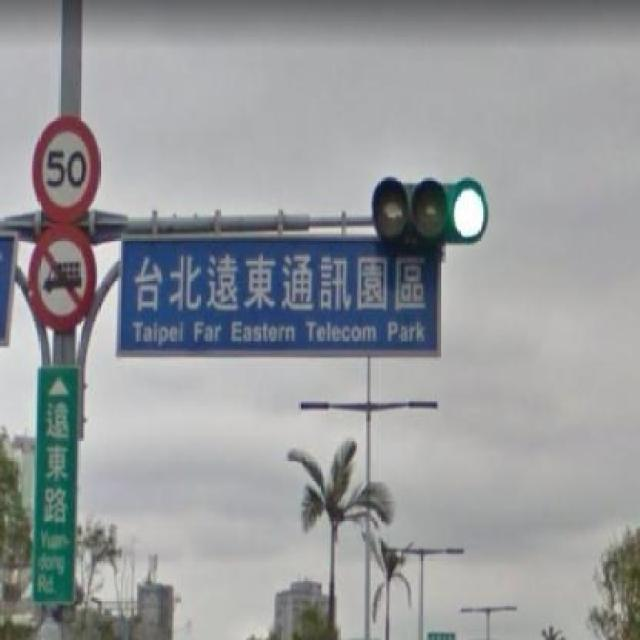forb_speed_over_50: (35, 114, 96, 220)
